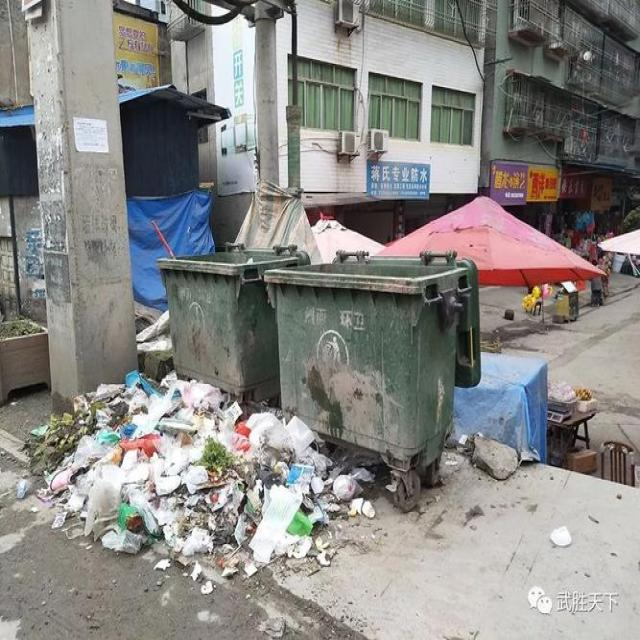garbage: (17, 367, 378, 594)
garbage_bin: (262, 248, 479, 457), (156, 244, 310, 400)
